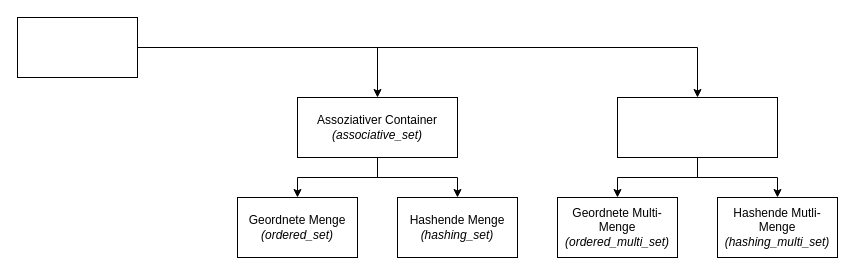
The diagram is 855 pixels wide and 275 high, and some of its shapes have lost their labels. Here are the shapes that lost their labels. From the top down, the centre of each, then its label:
the point at 77,47: Container
the point at 697,127: Assoziative Multi-Container (associative_multi_set)
